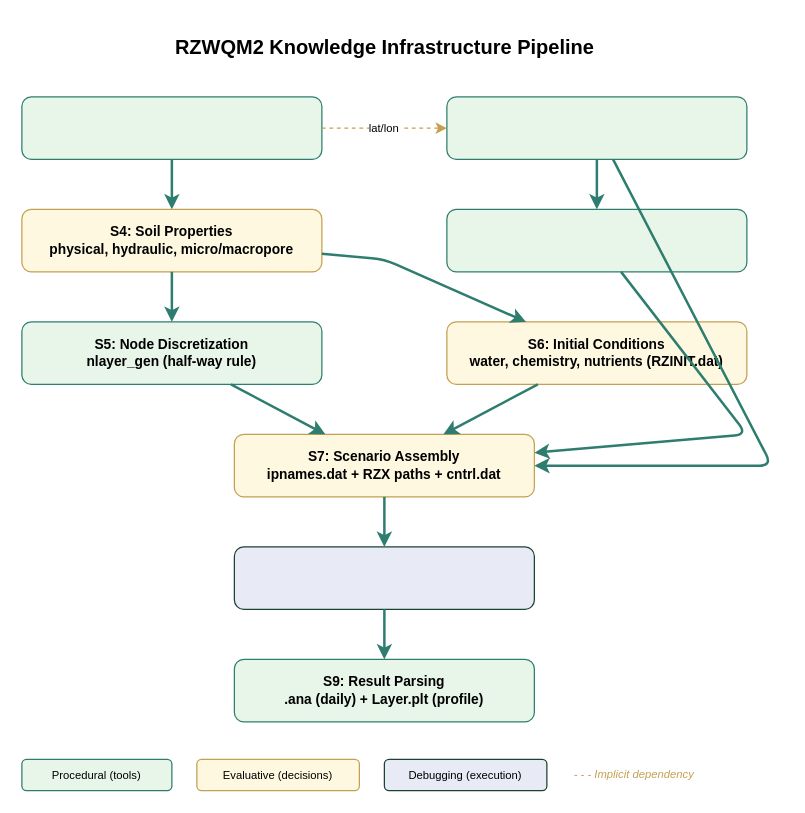
Some shapes in this 805 by 813 pixel diagram are drawn without their labels. The shapes that lost their labels are listed below. From the top down, each one's centre as x and y in pixels, then its label:
At pixel 171 127: "S1: Site/Grid Configuration lat/lon (radians), elevation, slope".
At pixel 596 127: "S2: Meteorological Data Prep .met file (10 cols, 36-line header)".
At pixel 596 240: "S3: Breakpoint Rainfall .brk (mm to inches / 25.4)".
At pixel 383 577: "S8: Model Execution RZWQMrelease.exe / main_ryzen (AVX2)".
